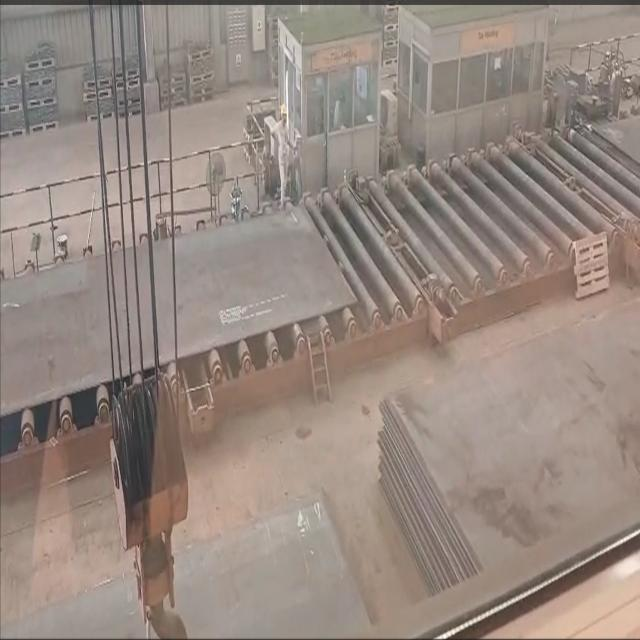warningzone: (327, 127, 637, 328)
